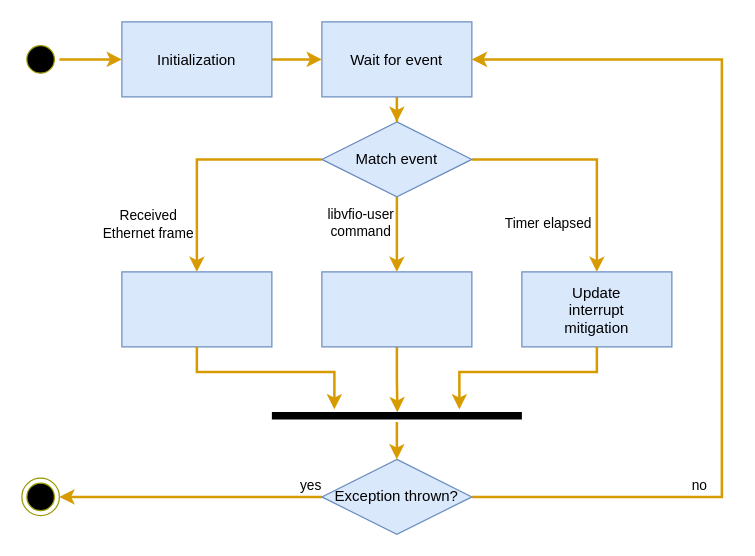
Some shapes in this 755 by 556 pixel diagram are drawn without their labels. Here are the shapes that lost their labels. From the top down, the centre of each, then its label:
the point at 196,309: Receive packets
the point at 396,309: Process libvfio-user commands
